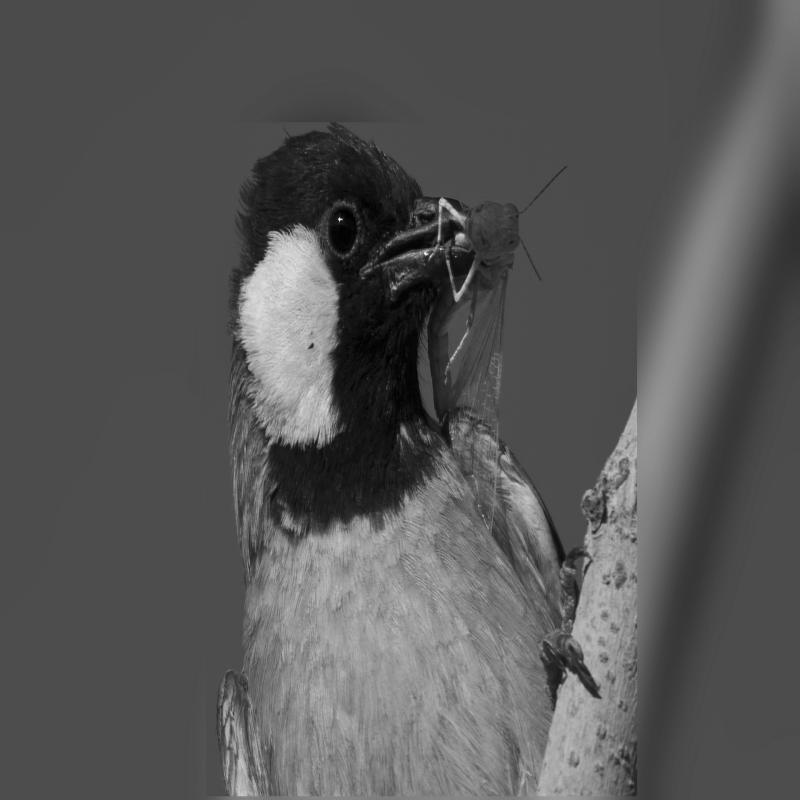white-eared bulbul: (216, 118, 575, 800)
